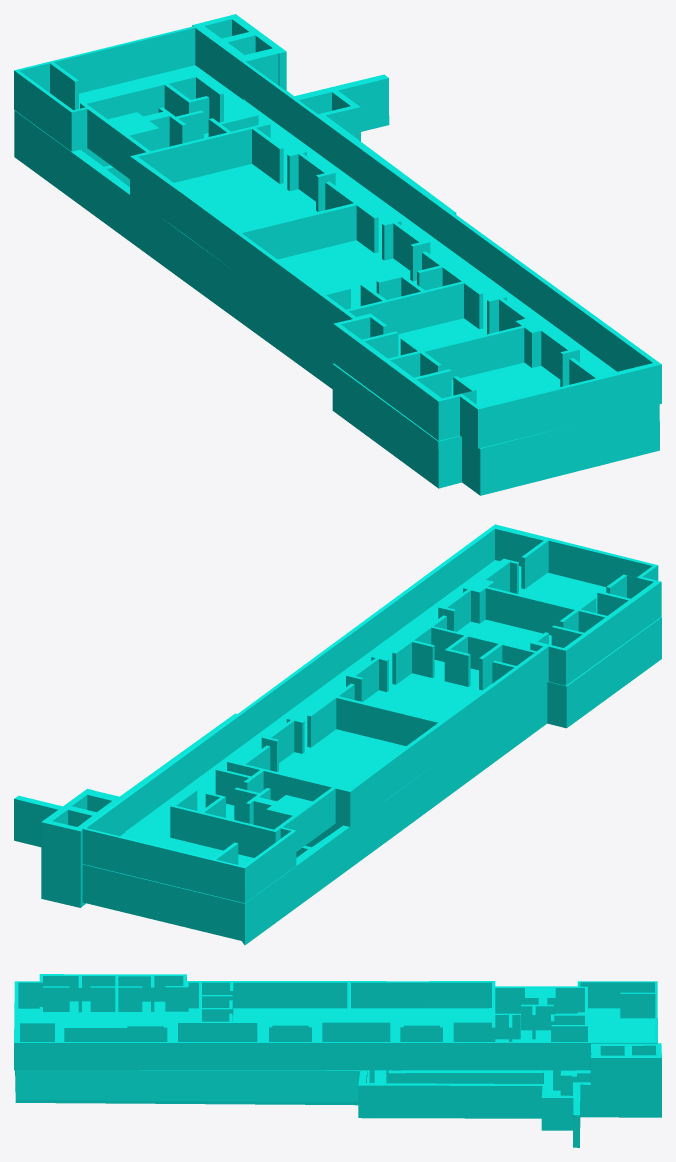
File: floor2.gltf
3 renders of one model, top to bottom at view 1: azimuth 30°, elevation 25°; view 2: azimuth 150°, elevation 25°; view 3: azimuth 270°, elevation 25°, orthographic. The views are drawn at different scales.
Visible parts, largest first — view 1: Plane.001, Plane; view 2: Plane.001, Plane; view 3: Plane.001, Plane.
Boxes of the visible parts, x1,y1,x2,y2 form: Plane.001: (14, 26, 661, 448); Plane: (14, 14, 659, 495); Plane.001: (82, 524, 661, 903); Plane: (14, 617, 661, 945); Plane.001: (14, 974, 657, 1070); Plane: (15, 1043, 661, 1147).
Size of the model in its own units: 0.5799 by 0.1443 by 1.4.
